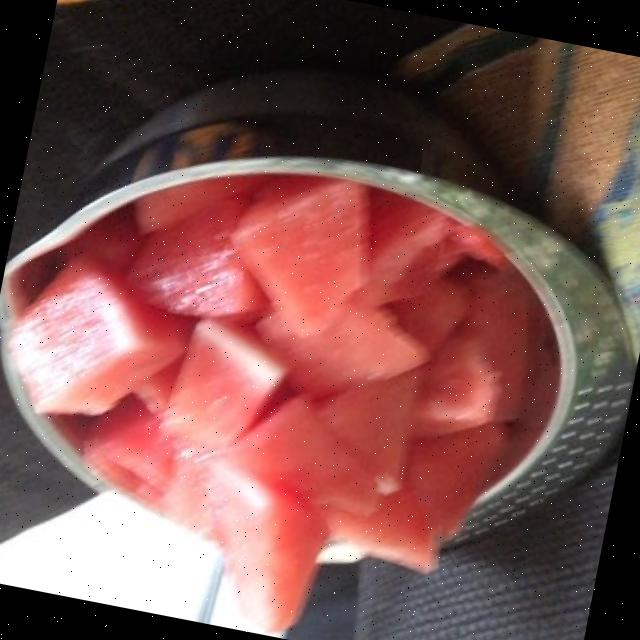watermelon-fresh: (20, 179, 552, 616)
